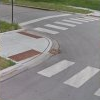crosswalk: (36, 59, 100, 96), (34, 16, 97, 34)
